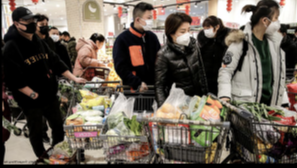with_mask: (171, 25, 191, 47), (262, 13, 280, 35), (17, 15, 36, 35), (137, 12, 154, 31), (35, 20, 49, 34), (203, 24, 216, 38), (48, 31, 59, 43), (95, 41, 104, 49), (61, 36, 68, 43)
